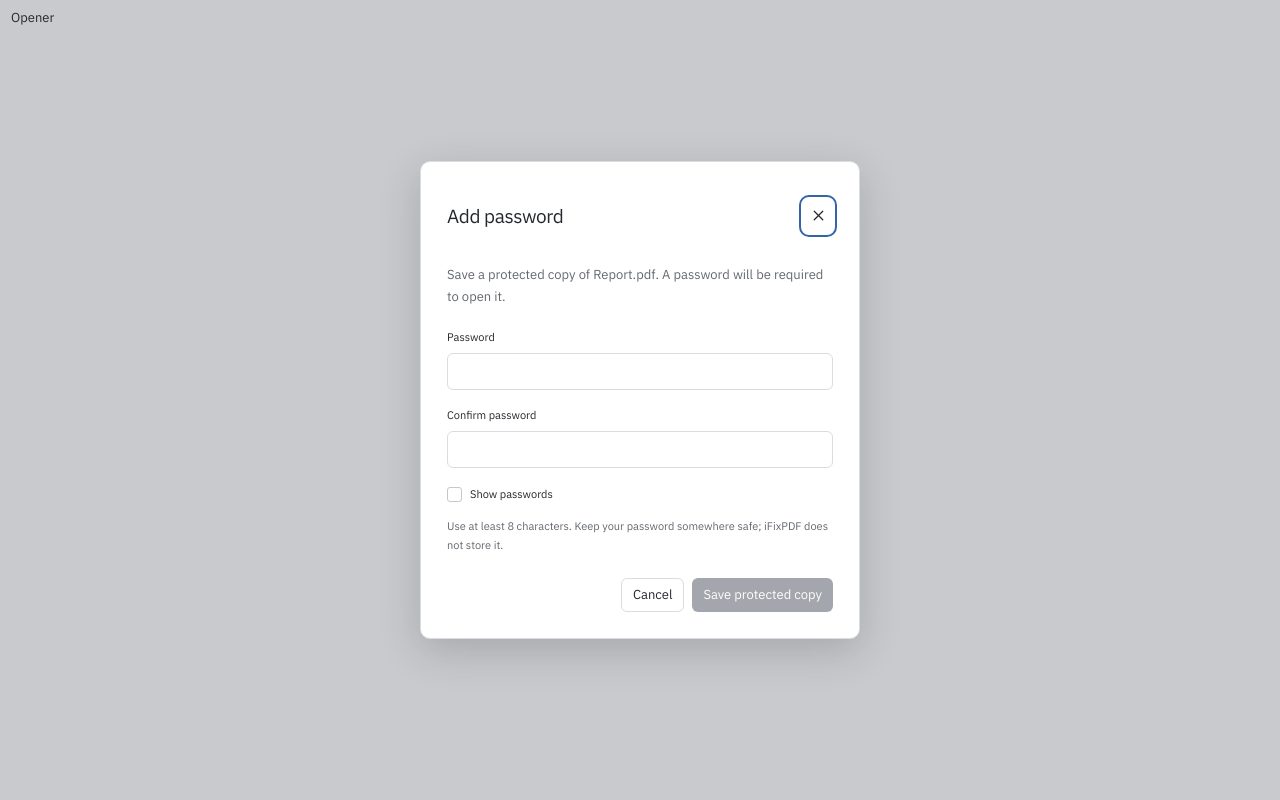
Scenario: PasswordDialog › shows the mismatch message and blocks submit
Type "correct-horse-9" into the password field labelled "Password" at [640, 371], box [447,353,833,390]
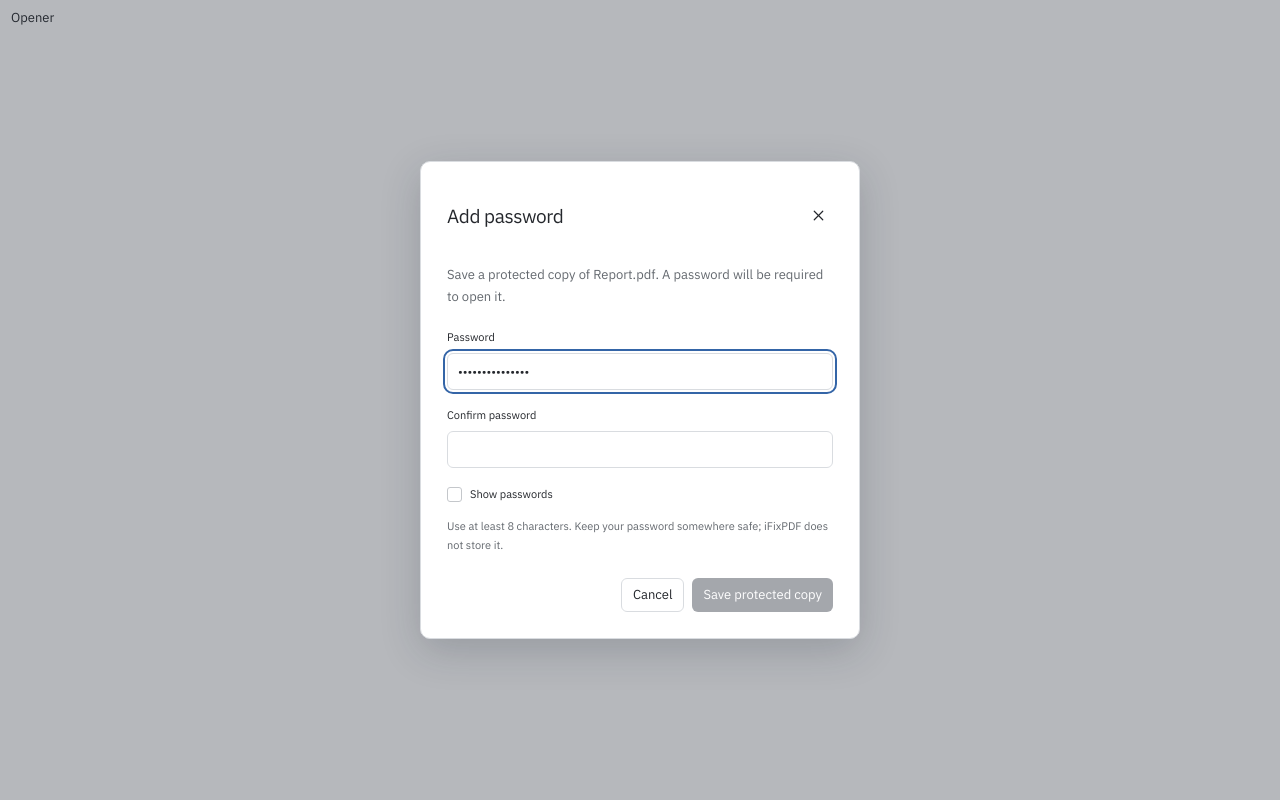
Type "different-pass" into the password field labelled "Confirm password" at [640, 449], box [447,431,833,468]
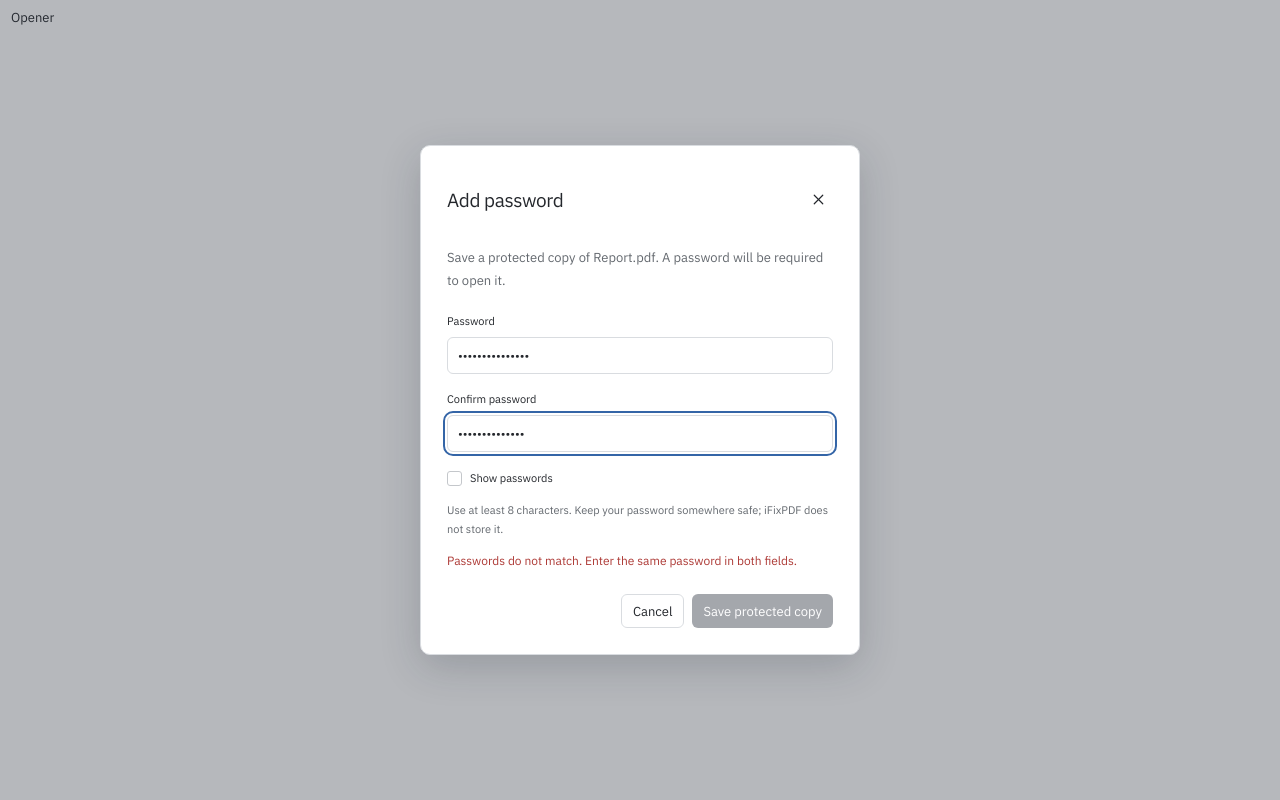
Check: the button "Save protected copy" is disabled, box [692,594,833,628]
Check: the message reads "Passwords do not match. Enter the same password in both fields.", box [447,553,797,568]
